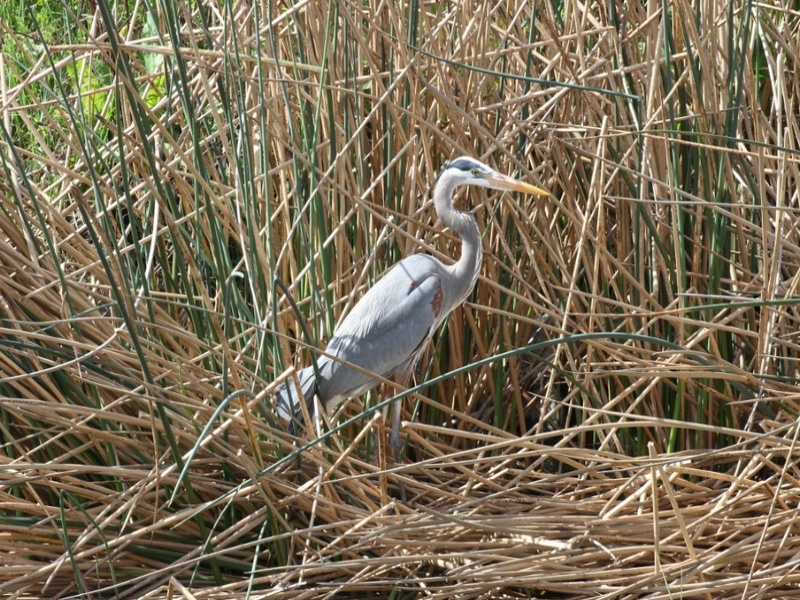heron: (279, 153, 549, 477)
